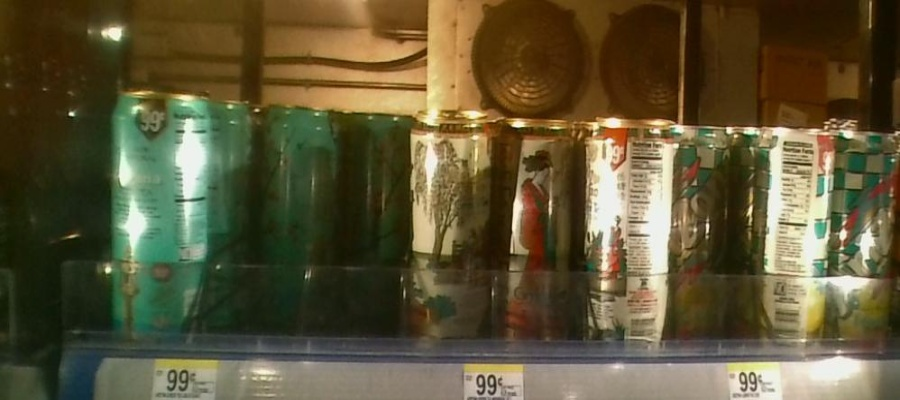bottle: (106, 81, 212, 350), (584, 97, 675, 361), (749, 123, 838, 355), (252, 98, 337, 340), (407, 107, 490, 349), (495, 104, 575, 355), (341, 101, 406, 346), (839, 116, 900, 359), (678, 109, 730, 361)
